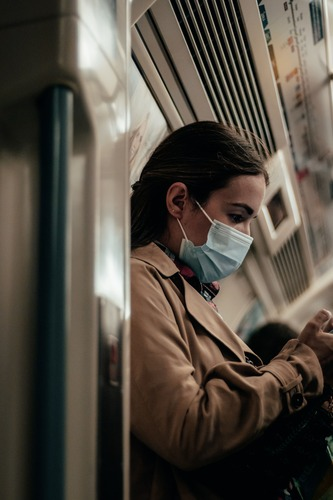with_mask: (181, 168, 260, 276)
